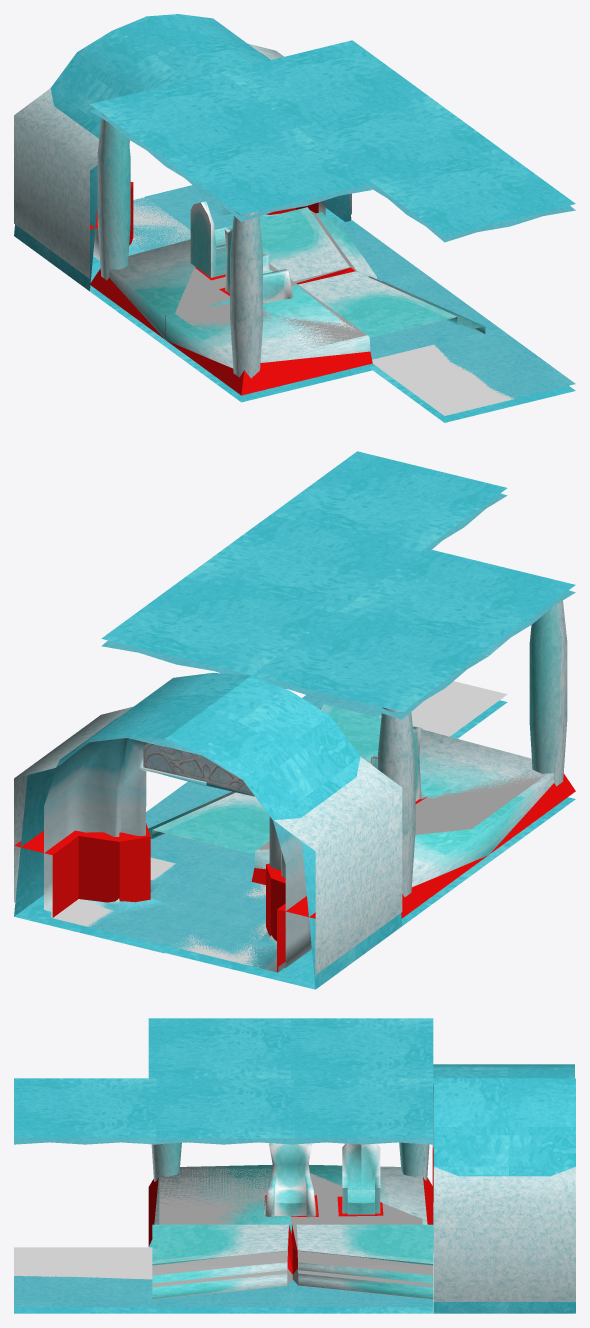
File: IcePalace.glb
The picture shows the model from 3 angles, top to bottom: view 1: azimuth 30°, elevation 25°; view 2: azimuth 150°, elevation 25°; view 3: azimuth 270°, elevation 25°; orthographic projection. The views are drawn at different scales.
Visible parts, largest first — view 1: Black, WallBox, RoofBox, RoofBox.002, RoofBox.001, RoofBox.004, RoofBox.003, ThroneRR.001, Wok.004, ThroneRF, ThroneLF, Floor (+19 smaller); view 2: WallBox, Wall.001, Black, RoofBox, RoofBox.002, RoofBox.001, RoofBox.004, RoofBox.003, WallBox.001, Wall, Wok.001, ThroneRR.001 (+17 smaller); view 3: Black.001, WallBox.001, RoofBox, RoofBox.001, RoofBox.002, RoofBox.004, RoofBox.003, ThroneLF, ThroneRF, Wok.004, ThroneRR.001, Floor (+18 smaller).
Boxes of the visible parts, bbox=[...] form: Black: bbox=[14, 88, 99, 278]; WallBox: bbox=[14, 17, 220, 291]; RoofBox: bbox=[369, 148, 575, 235]; RoofBox.002: bbox=[166, 128, 372, 215]; RoofBox.001: bbox=[90, 72, 296, 159]; RoofBox.004: bbox=[221, 40, 427, 127]; RoofBox.003: bbox=[296, 96, 499, 180]; ThroneRR.001: bbox=[165, 284, 370, 368]; Wok.004: bbox=[166, 284, 372, 395]; ThroneRF: bbox=[298, 271, 485, 337]; ThroneLF: bbox=[221, 207, 376, 281]; Floor: bbox=[434, 328, 575, 399]; WallBox: bbox=[165, 675, 402, 989]; Wall.001: bbox=[44, 736, 250, 945]; Black: bbox=[274, 757, 402, 975]; RoofBox: bbox=[270, 451, 507, 551]; RoofBox.002: bbox=[339, 548, 575, 648]; RoofBox.001: bbox=[252, 612, 488, 711]; RoofBox.004: bbox=[101, 577, 336, 675]; RoofBox.003: bbox=[186, 515, 420, 613]; WallBox.001: bbox=[14, 672, 250, 953]; Wall: bbox=[165, 741, 311, 972]; Wok.001: bbox=[14, 823, 175, 926]; ThroneRR.001: bbox=[419, 729, 553, 854]; Black.001: bbox=[433, 1167, 575, 1301]; WallBox.001: bbox=[433, 1078, 575, 1313]; RoofBox: bbox=[14, 1078, 156, 1138]; RoofBox.001: bbox=[291, 1018, 433, 1078]; RoofBox.002: bbox=[148, 1018, 290, 1078]; RoofBox.004: bbox=[291, 1078, 433, 1138]; RoofBox.003: bbox=[156, 1078, 294, 1138]; ThroneLF: bbox=[296, 1224, 433, 1299]; ThroneRF: bbox=[152, 1224, 288, 1299]; Wok.004: bbox=[148, 1168, 271, 1246]; ThroneRR.001: bbox=[154, 1165, 290, 1224]; Floor: bbox=[14, 1276, 156, 1307].
Size of the model in its own units: 20 by 13.6 by 39.51.
10 materials, 7 textured.
